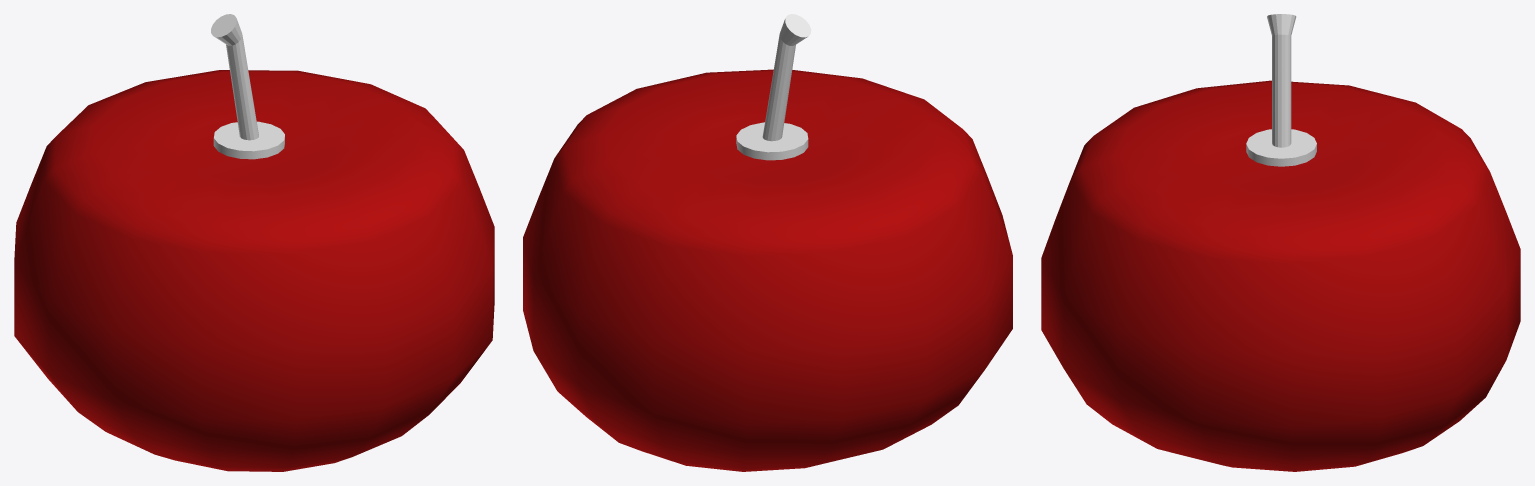
Rendered from apple.fbx.
3 renders of one model, left to right at view 1: azimuth 30°, elevation 25°; view 2: azimuth 150°, elevation 25°; view 3: azimuth 270°, elevation 25°, orthographic. The views are drawn at different scales.
Visible parts, largest first — view 1: Cylinder023, Cylinder024; view 2: Cylinder023, Cylinder024; view 3: Cylinder023, Cylinder024.
Part boxes in pixels (x1,y1,x2,y2): Cylinder023: (14, 70, 494, 471); Cylinder024: (211, 14, 284, 159); Cylinder023: (523, 69, 1012, 471); Cylinder024: (736, 14, 811, 160); Cylinder023: (1041, 80, 1520, 471); Cylinder024: (1246, 14, 1316, 166).
Size of the model in its own units: 4.5 by 4.11 by 4.5.
